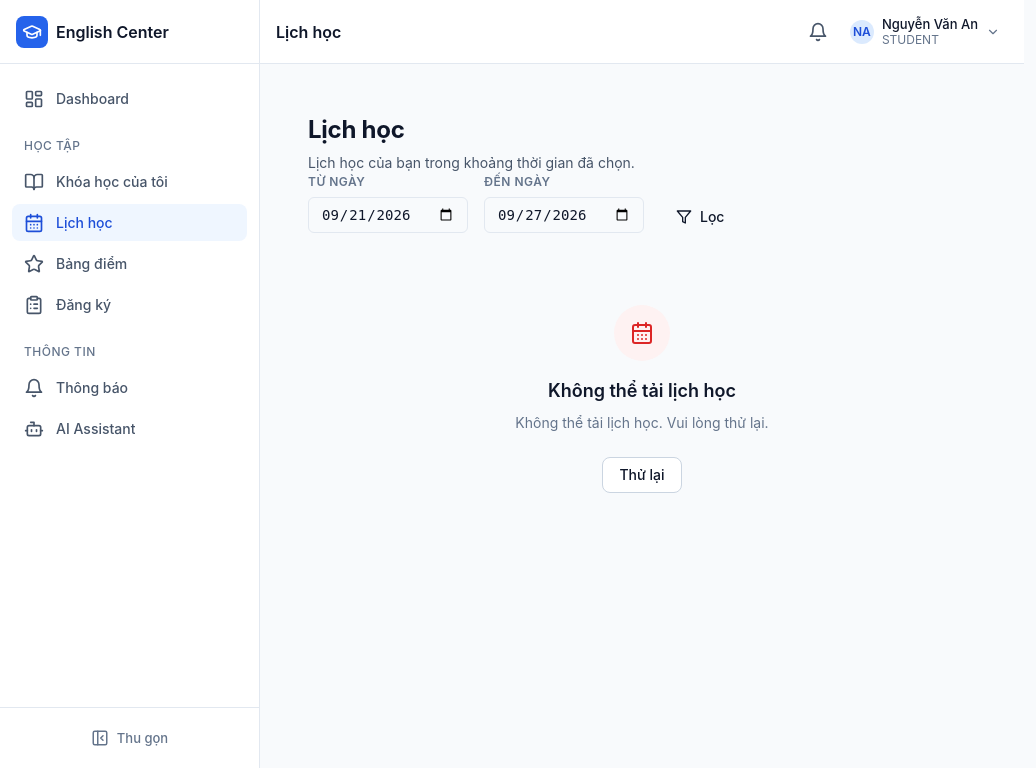
Test case: StudentSchedulePage › shows error state and refetches when retrying
Expected: the heading "Không thể tải lịch học" is shown, left=548, top=377, right=736, bottom=404
Click the button "Thử lại".
click(642, 475)  # box left=602, top=457, right=682, bottom=493
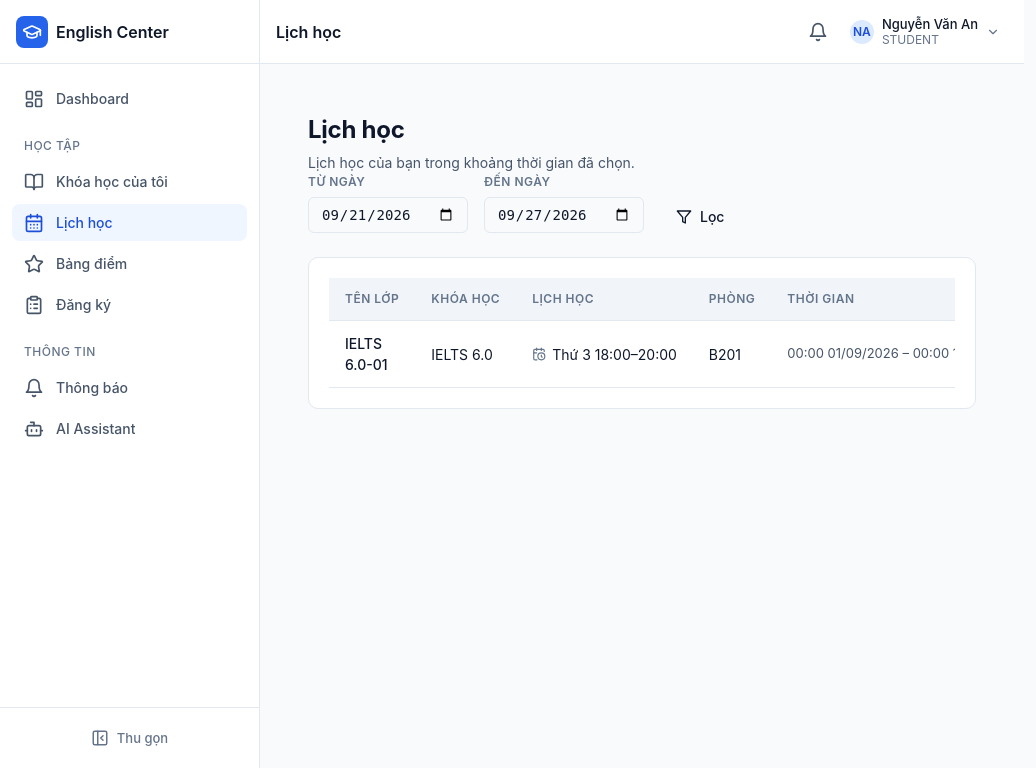
Expected: the text "IELTS 6.0-01" is shown, left=345, top=335, right=388, bottom=373
